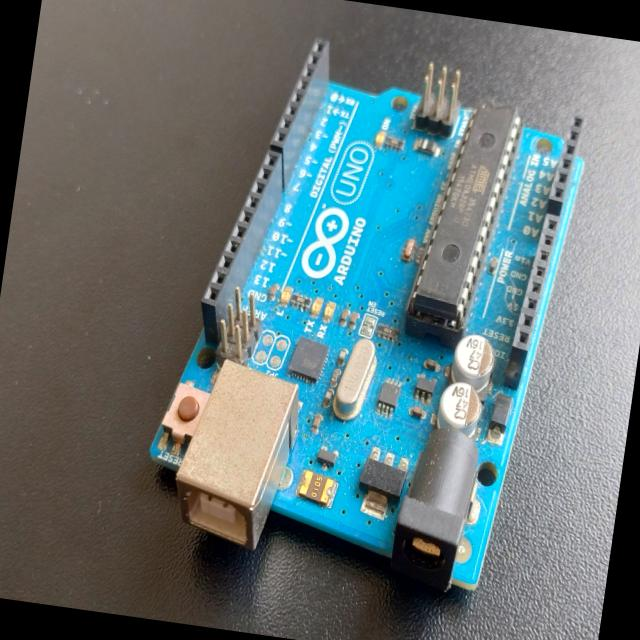arduino: (143, 11, 602, 612)
